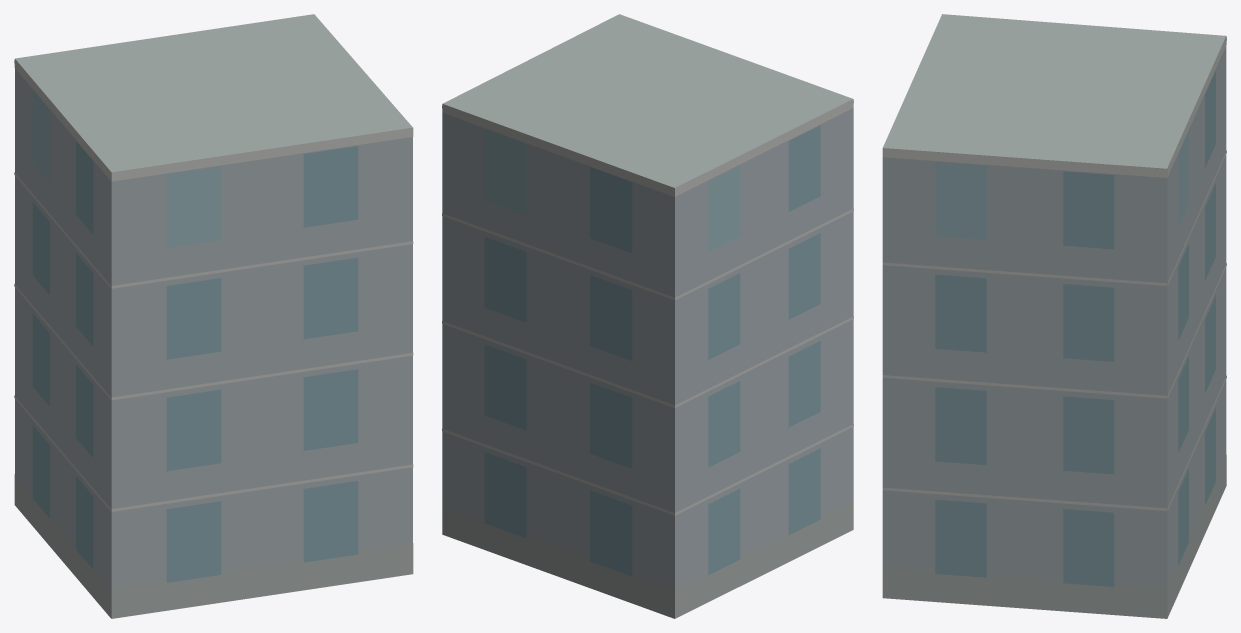
Rendered from survey-upis-32460034.glb.
3 views of the same model, side by side, from view 1: azimuth 30°, elevation 25°; view 2: azimuth 150°, elevation 25°; view 3: azimuth 270°, elevation 25° (orthographic). The views are drawn at different scales.
Parts seen in each view (by area): view 1: survey-upis-32460034.tmp; view 2: survey-upis-32460034.tmp; view 3: survey-upis-32460034.tmp.
Boxes of the visible parts, x1,y1,x2,y2 form: survey-upis-32460034.tmp: (14, 14, 413, 618); survey-upis-32460034.tmp: (442, 14, 853, 618); survey-upis-32460034.tmp: (882, 14, 1226, 618).
Size of the model in its own units: 8.72 by 11.8 by 8.19.
